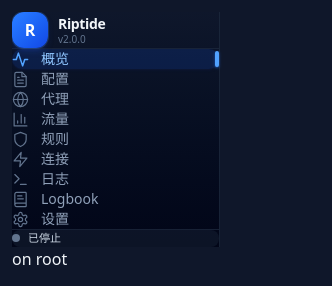
Test: /traffic route — Traffic top-level tab › clicking the Sidebar Traffic entry navigates to /traffic
Expected: the text "on root" is shown, [12,248,67,270]
Step 1. Click the link "流量" → (40, 118), box [12,109,69,128]
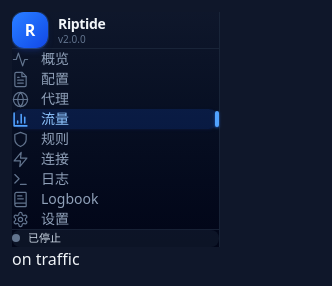
Expected: the text "on traffic" is shown, [12,248,80,270]
